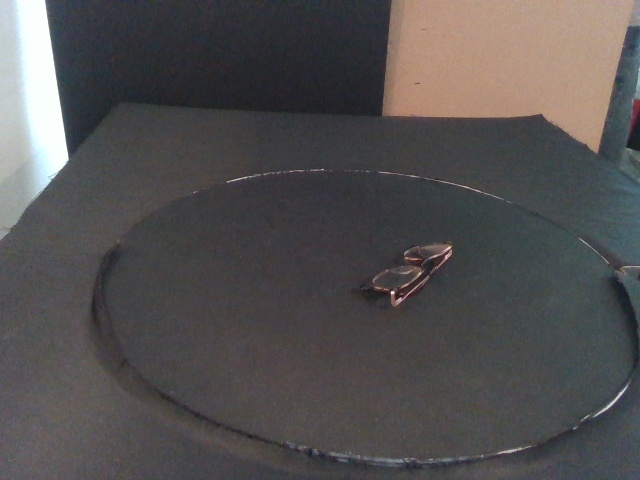glasses: (359, 239, 454, 308)
